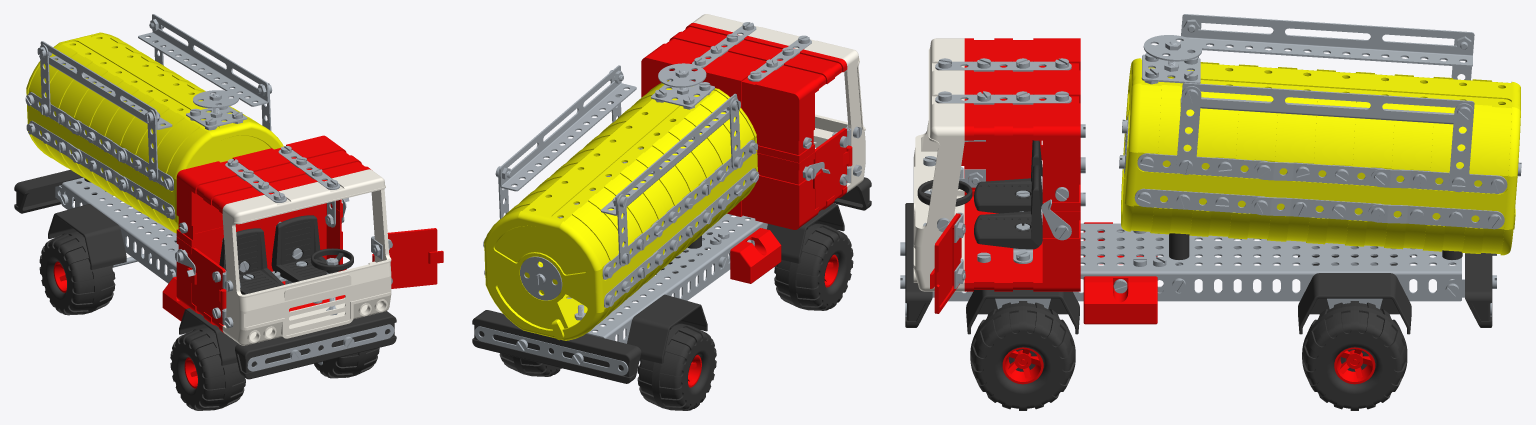
3 views of the same model, side by side, from view 1: azimuth 30°, elevation 25°; view 2: azimuth 150°, elevation 25°; view 3: azimuth 270°, elevation 25° (orthographic). The views are drawn at different scales.
Parts seen in each view (by area): view 1: Zylindersegment (×8), Reifen 54 x 10 x 31 (×3), Frontscheibe LKW, LKW Rückwand (×2), Kühlergrill LKW, Winkelstab 15 (×2), Stoßstange (×2), Zylinderrückwand (×2), Sitz (×4), Tür (×2), LKW Mittelteil flach (×2), Lochband 7 (×8) (+9 smaller); view 2: Zylindersegment (×8), LKW Rückwand (×2), Reifen 54 x 10 x 31 (×3), Zylinderrückwand (×2), Winkelstab 15 (×2), Stoßstange (×2), Kotflügel (×2), Winkelplatte 5 x 11 (×2), Lochband 7 (×8), LKW Mittelteil flach, Frontscheibe LKW, Zylinderrückwand offen (+9 smaller); view 3: Zylindersegment (×8), Reifen 54 x 10 x 31 (×2), Winkelstab 15 (×2), Winkelplatte 5 x 11 (×2), Lochband 7 (×8), LKW Mittelteil flach (×2), Zylinderrückwand (×3), LKW Rückwand (×2), Frontscheibe LKW, Kotflügel (×2), Sitz (×3), Tür (×2) (+9 smaller).
Part boxes in pixels (box(x1,y1,x2,y2)): Zylindersegment (×8): box(39, 40, 251, 233); Reifen 54 x 10 x 31 (×3): box(39, 231, 379, 410); Frontscheibe LKW: box(222, 169, 391, 311); LKW Rückwand (×2): box(176, 135, 342, 309); Kühlergrill LKW: box(222, 275, 391, 345); Winkelstab 15 (×2): box(40, 14, 268, 129); Stoßstange (×2): box(14, 170, 396, 379); Zylinderrückwand (×2): box(26, 32, 283, 200); Sitz (×4): box(219, 215, 326, 294); Tür (×2): box(187, 228, 443, 324); LKW Mittelteil flach (×2): box(191, 146, 370, 332); Lochband 7 (×8): box(28, 92, 340, 219); Zylindersegment (×8): box(512, 91, 744, 324); LKW Rückwand (×2): box(641, 46, 814, 229); Reifen 54 x 10 x 31 (×3): box(499, 223, 853, 410); Zylinderrückwand (×2): box(484, 80, 757, 291); Winkelstab 15 (×2): box(499, 65, 737, 215); Stoßstange (×2): box(472, 177, 871, 383); Kotflügel (×2): box(627, 203, 844, 363); Winkelplatte 5 x 11 (×2): box(623, 213, 767, 308); Lochband 7 (×8): box(602, 26, 811, 307); LKW Mittelteil flach: box(660, 23, 847, 92); Frontscheibe LKW: box(692, 14, 865, 153); Zylinderrückwand offen: box(485, 264, 615, 340); Zylindersegment (×8): box(1160, 62, 1482, 253); Reifen 54 x 10 x 31 (×2): box(970, 301, 1407, 410); Winkelstab 15 (×2): box(1180, 14, 1474, 124); Winkelplatte 5 x 11 (×2): box(948, 223, 1364, 301); Lochband 7 (×8): box(935, 61, 1507, 229); LKW Mittelteil flach (×2): box(964, 38, 1042, 291); Zylinderrückwand (×3): box(1121, 58, 1520, 233); LKW Rückwand (×2): box(1042, 38, 1080, 291); Frontscheibe LKW: box(913, 38, 964, 246); Kotflügel (×2): box(966, 273, 1411, 334); Sitz (×3): box(974, 165, 1042, 249); Tür (×2): box(930, 140, 1042, 313).
Bounding box in the file's own units: 0.1645 × 0.1813 × 0.3184.
